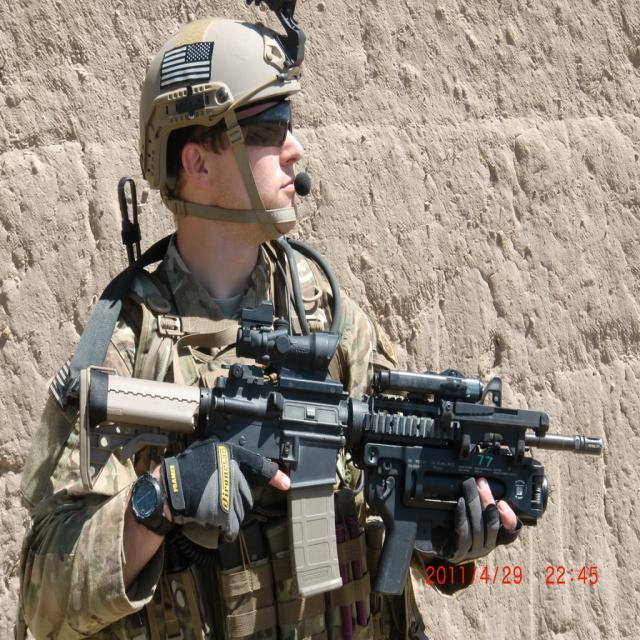weapon: (82, 302, 598, 587)
